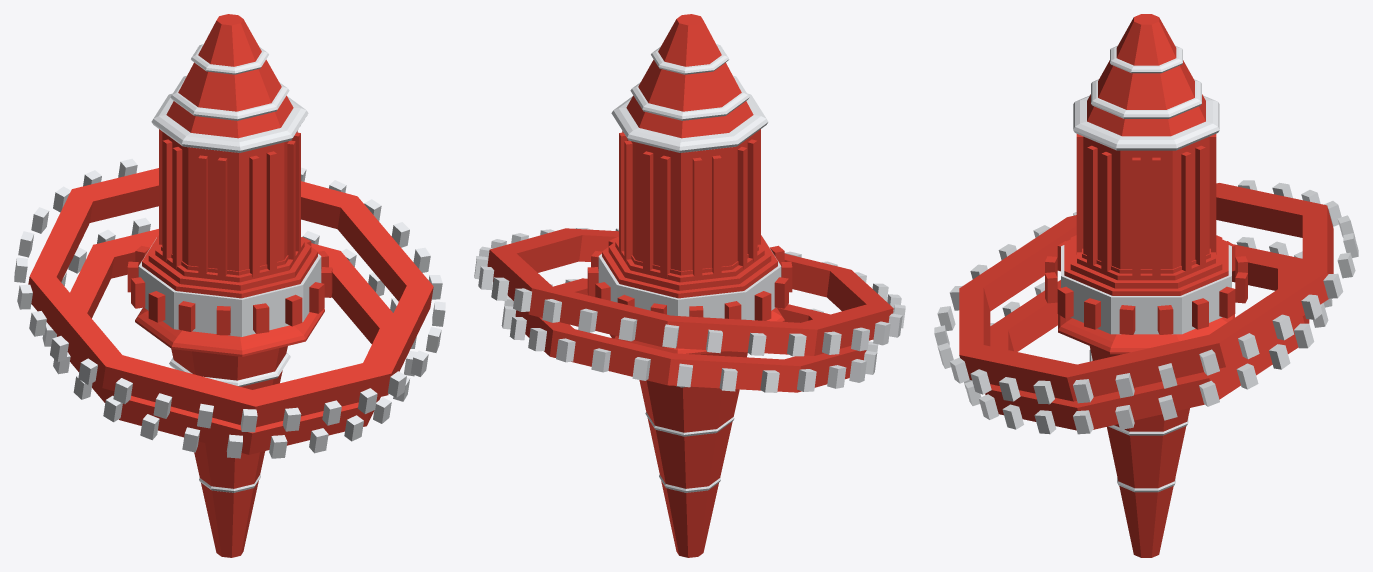
The model's file is bishop-ornate.glb.
3 renders of one model, left to right at view 1: azimuth 30°, elevation 25°; view 2: azimuth 150°, elevation 25°; view 3: azimuth 270°, elevation 25°, orthographic.
Visible parts, largest first — view 1: bishop-ornate; view 2: bishop-ornate; view 3: bishop-ornate.
Boxes of the visible parts, x1,y1,x2,y2 form: bishop-ornate: (14,14,445,557); bishop-ornate: (474,14,905,557); bishop-ornate: (934,14,1358,557).
Size of the model in its own units: 0.6306 by 0.86 by 0.6205.
